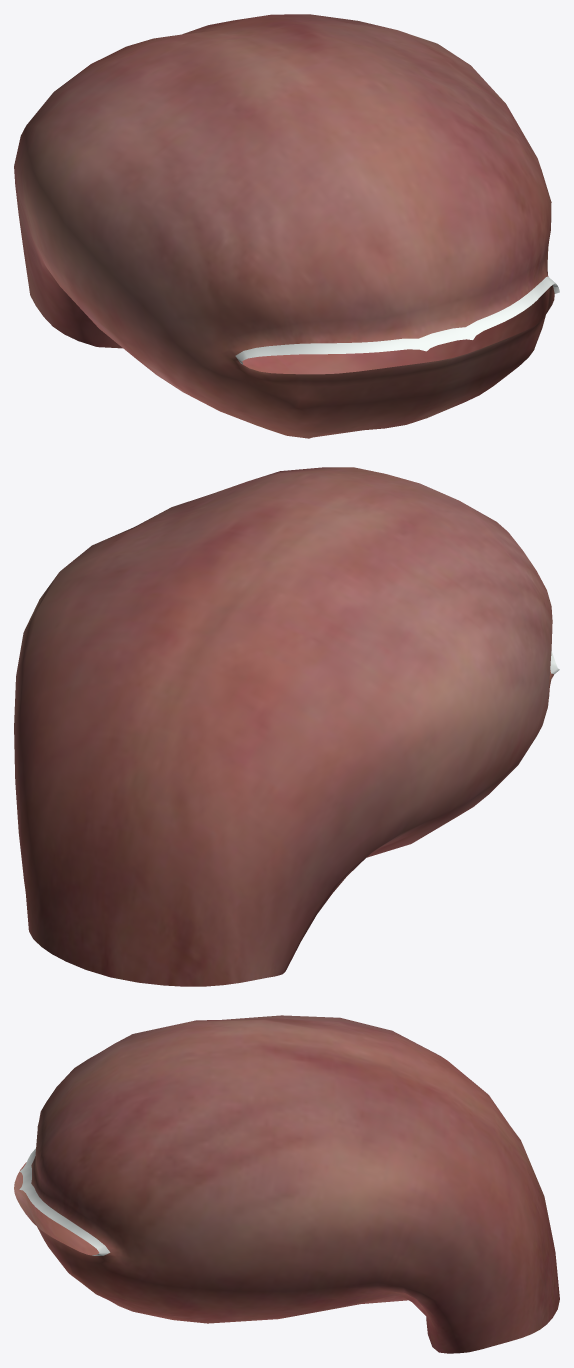
Rendered from boca.fbx.
3 renders of one model, top to bottom at view 1: azimuth 30°, elevation 25°; view 2: azimuth 150°, elevation 25°; view 3: azimuth 270°, elevation 25°, orthographic. The views are drawn at different scales.
Parts seen in each view (by area): view 1: Cavidad bucal; view 2: Cavidad bucal; view 3: Cavidad bucal.
Boxes of the visible parts, x1,y1,x2,y2 form: Cavidad bucal: [14, 14, 559, 438]; Cavidad bucal: [14, 467, 559, 986]; Cavidad bucal: [14, 1015, 559, 1353].
Size of the model in its own units: 62.89 by 49.41 by 86.7.
